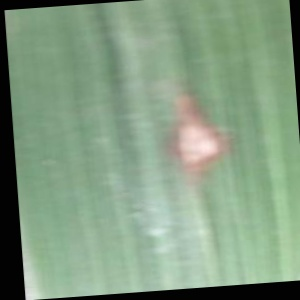Brown_Spot: (163, 81, 242, 198)
